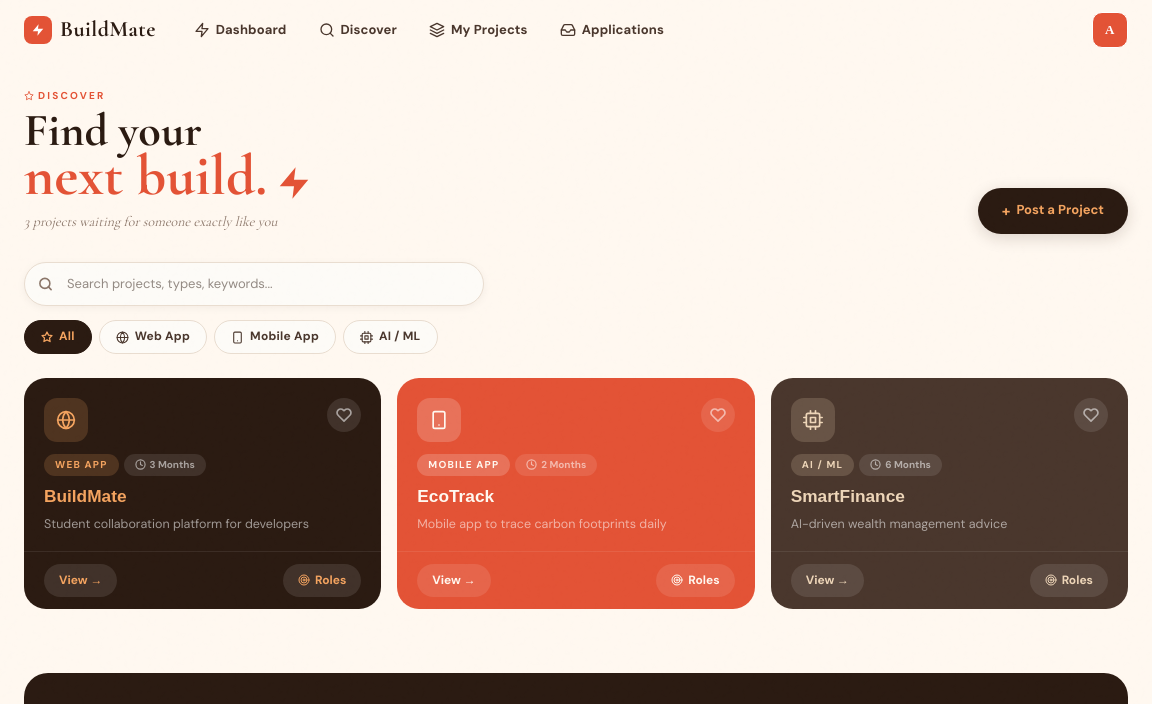
Test: ProjectSwipe › toggles roles drawer, fetches opportunities, and submits application
Click the button "Roles" below "3 Months" at point(322, 580), box [283,564,361,597]
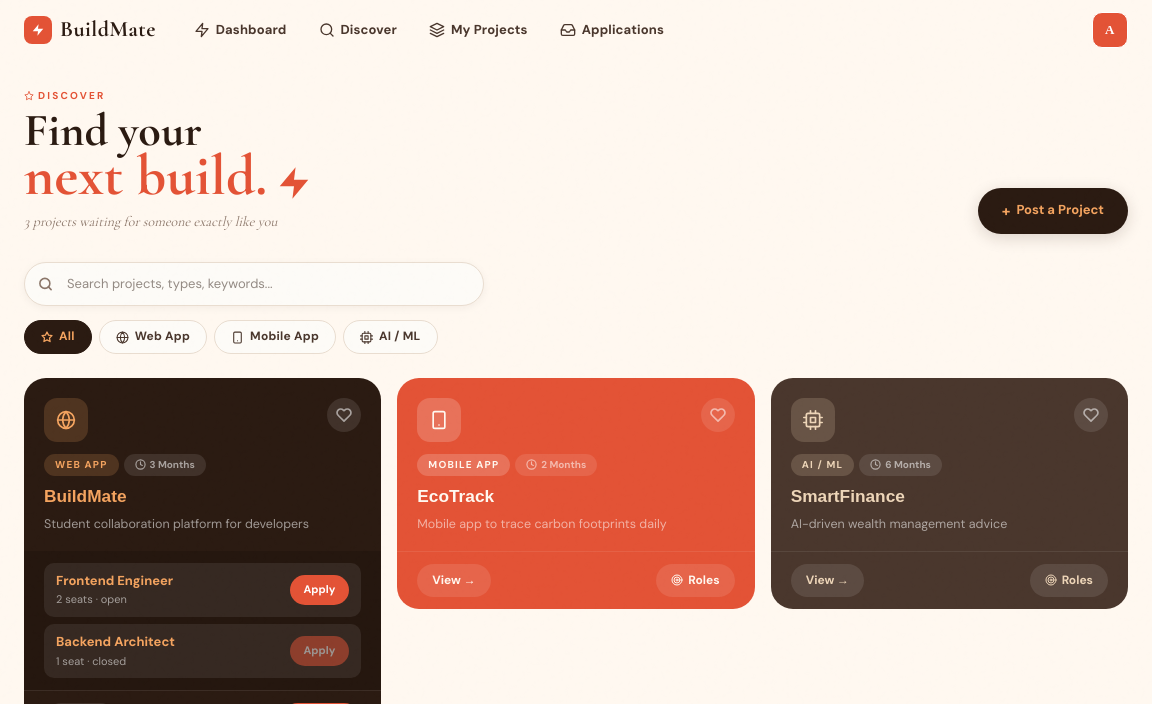
Expected: the text "Frontend Engineer" is shown, [56,571,173,592]
Expected: the text "Backend Architect" is shown, [56,632,175,653]
Expected: the button "Apply" next to "Frontend Engineer" is enabled
Click the button "Apply" next to "Frontend Engineer" at point(319, 590), box [290,575,349,605]
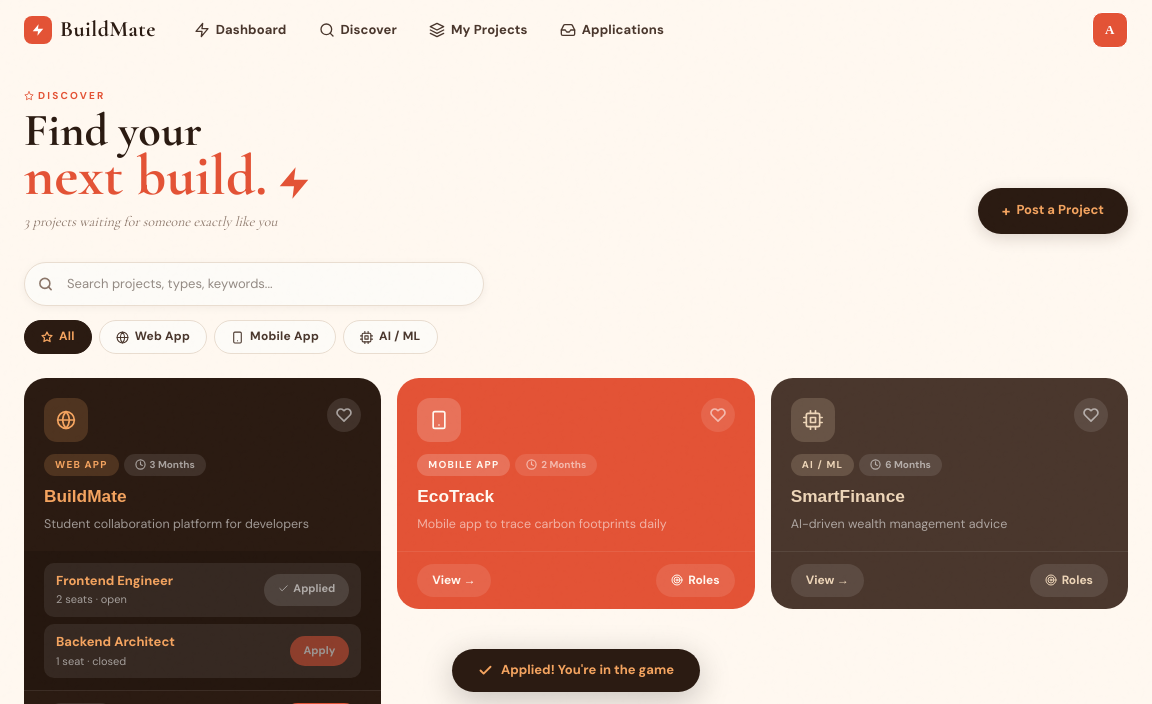
Expected: the button "Applied" is disabled, [264,574,349,606]
Expected: the text "Applied! You're in the game" is shown, [501,660,674,681]
